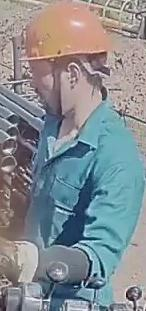gloves: (0, 235, 55, 288)
helmet: (17, 0, 119, 69)
vest: (20, 93, 146, 296)
